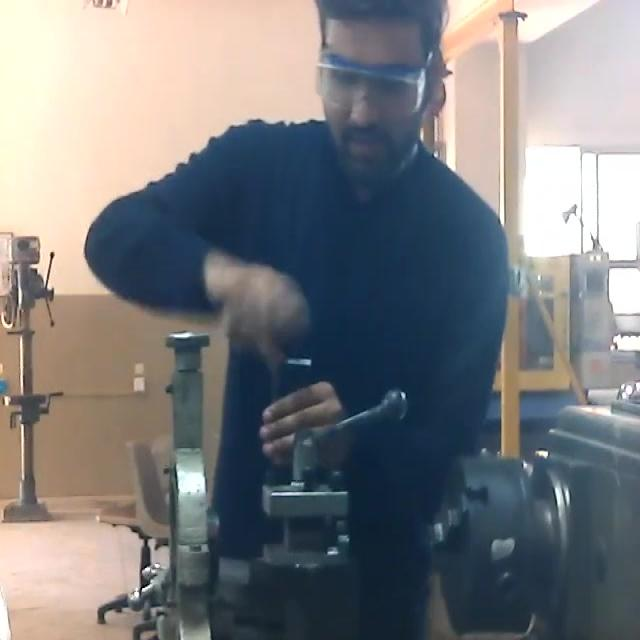googles: (315, 50, 424, 120)
